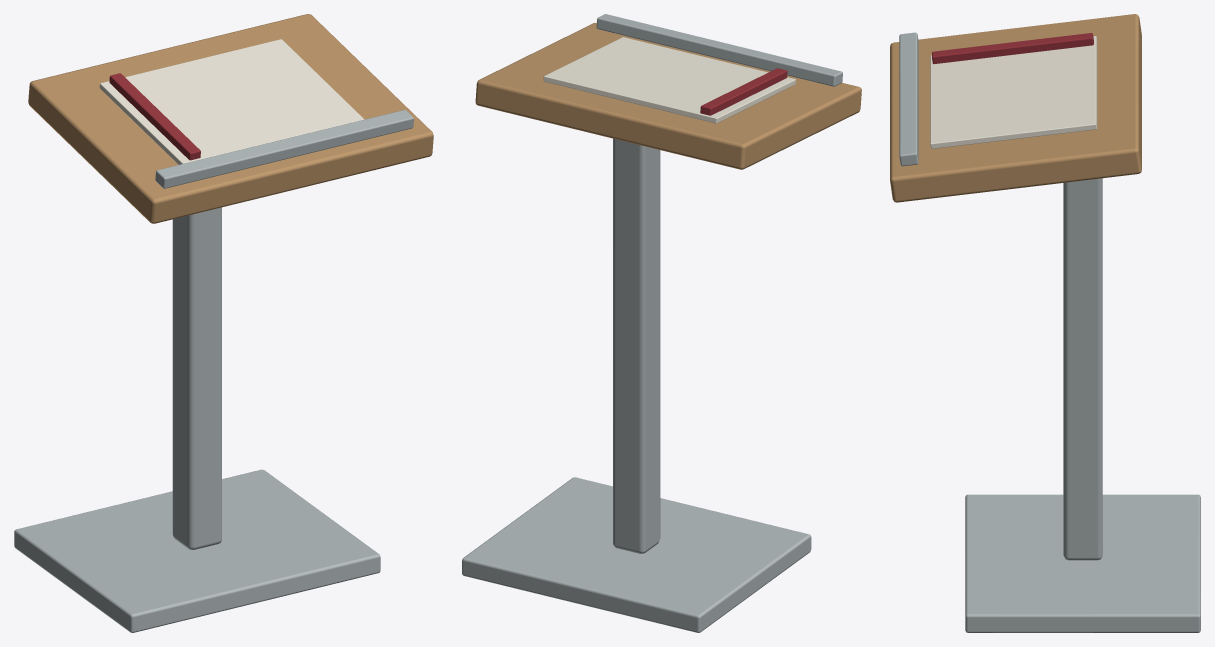
Rendered from pneumatic-tube-mail-exchange-pneumatic-tube-mail-excha-019b2337__32326.glb.
3 views of the same model, side by side, from view 1: azimuth 30°, elevation 25°; view 2: azimuth 150°, elevation 25°; view 3: azimuth 270°, elevation 25° (orthographic). The views are drawn at different scales.
Parts seen in each view (by area): view 1: pneumatic-tube-mail-exchange-maintenance-log-lectern; view 2: pneumatic-tube-mail-exchange-maintenance-log-lectern; view 3: pneumatic-tube-mail-exchange-maintenance-log-lectern.
Part boxes in pixels (<box>): pneumatic-tube-mail-exchange-maintenance-log-lectern: <box>14,14,433,632</box>; pneumatic-tube-mail-exchange-maintenance-log-lectern: <box>462,14,861,632</box>; pneumatic-tube-mail-exchange-maintenance-log-lectern: <box>890,14,1200,632</box>.
Bounding box in the file's own units: 0.62 × 1.05 × 0.5936.
